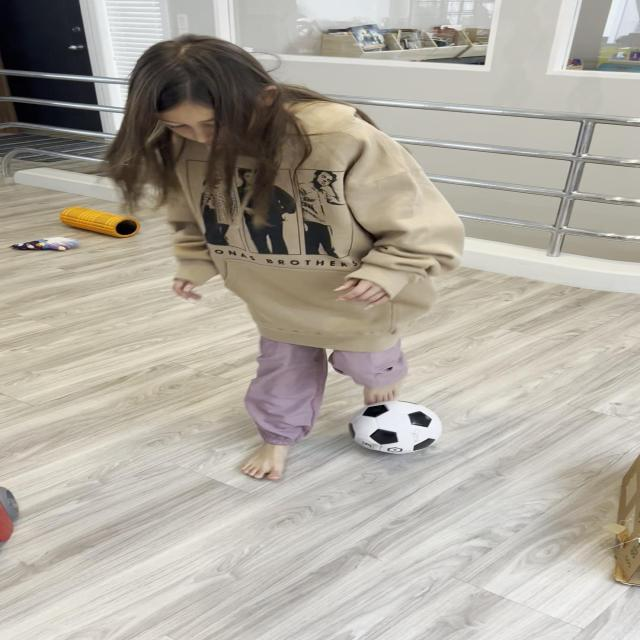Soccer Ball: (348, 400, 443, 454)
